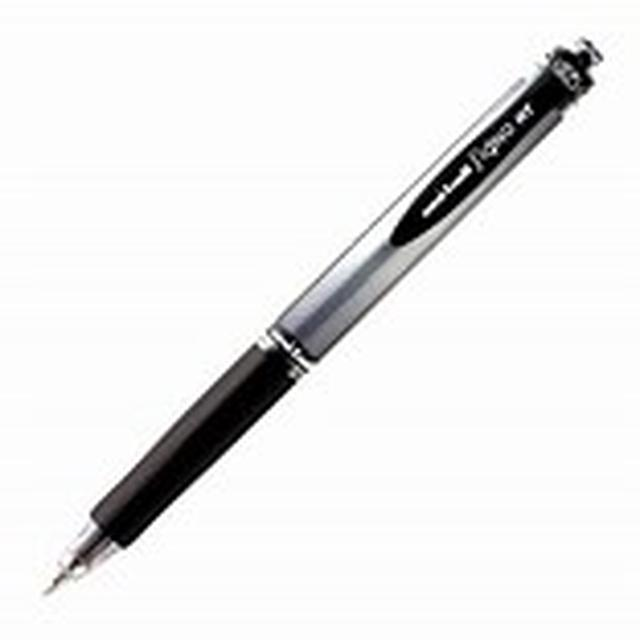pen: (18, 9, 628, 604)
